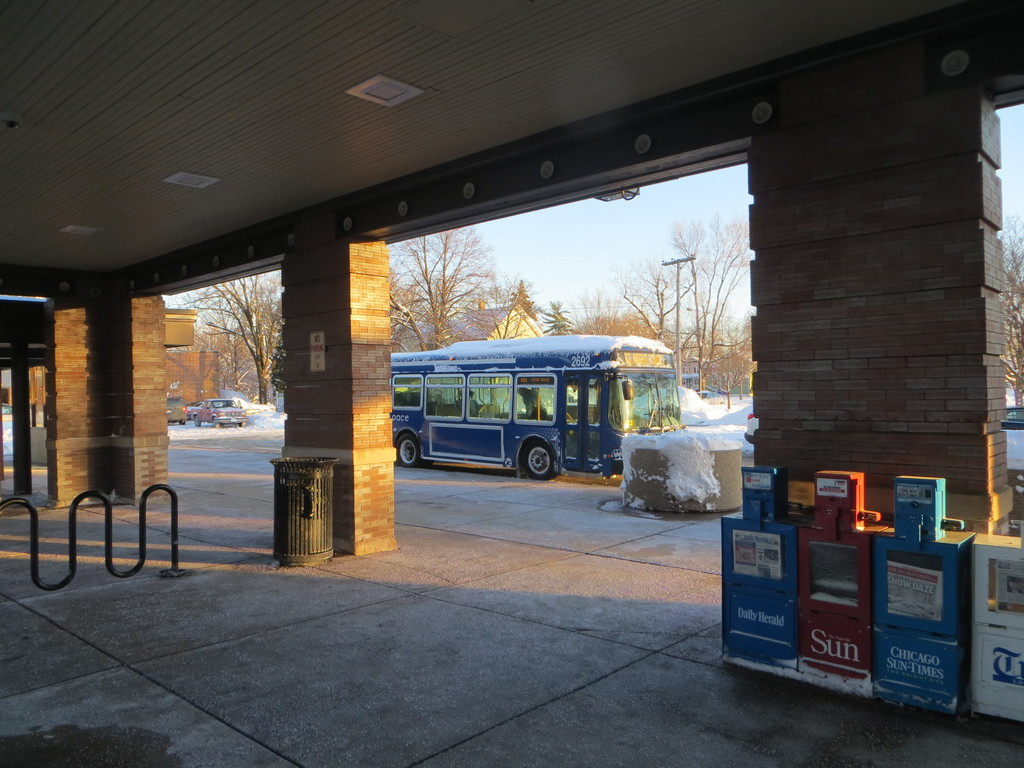Bus: (387, 328, 679, 482)
